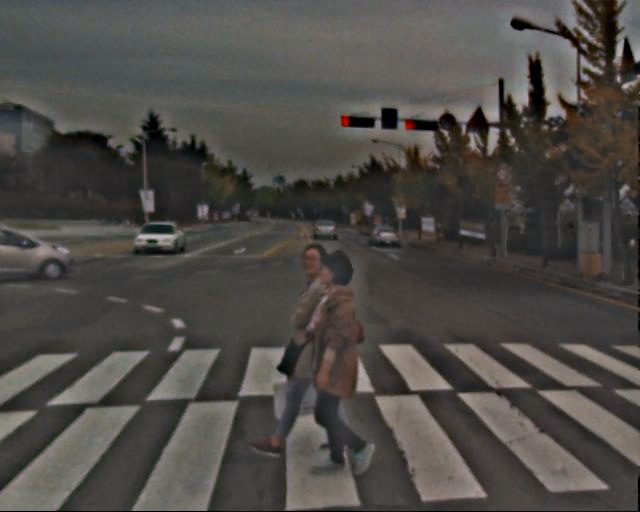person: (285, 254, 381, 478), (273, 237, 353, 452)
